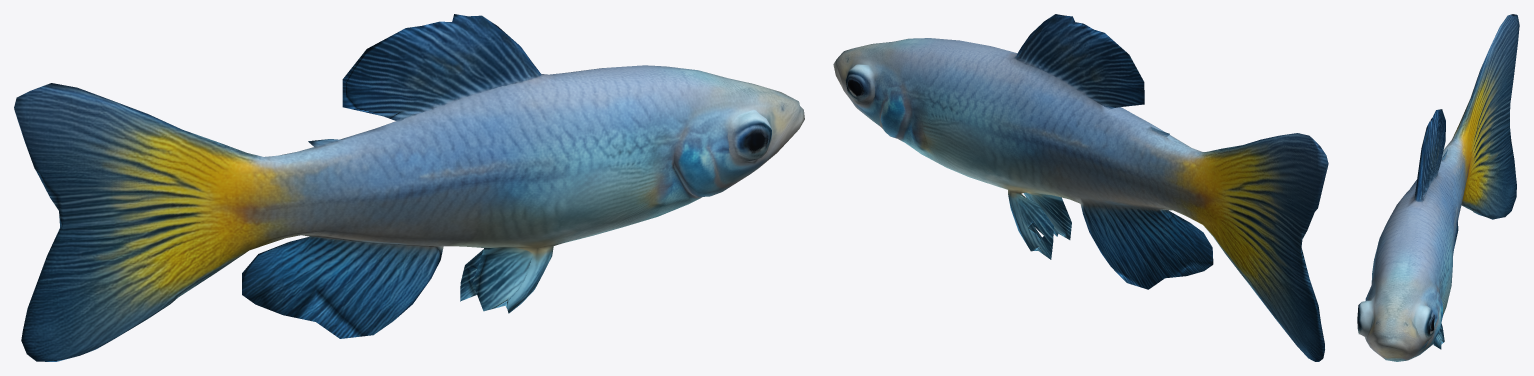
The model's file is tropicalfish_a2_single_1500.glb.
The picture shows the model from 3 angles, left to right: view 1: azimuth 30°, elevation 25°; view 2: azimuth 150°, elevation 25°; view 3: azimuth 270°, elevation 25°; orthographic projection. The views are drawn at different scales.
Size of the model in its own units: 0.9091 by 0.3824 by 0.2539.
Materials: 1 (1 with a texture image).
